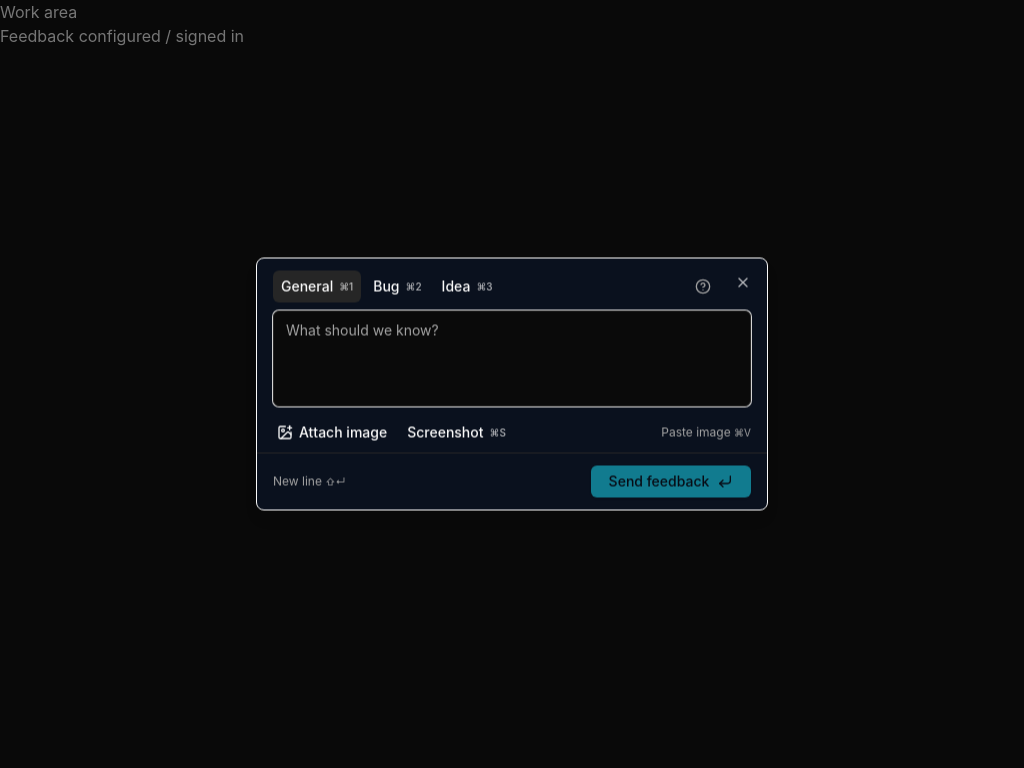
Test: unified feedback composer continuity › capture returns the draft with a selection where it was (BUG-284)
In the text box named "Feedback": (512, 358) [273,310,751,406], type "Typing in the middle"
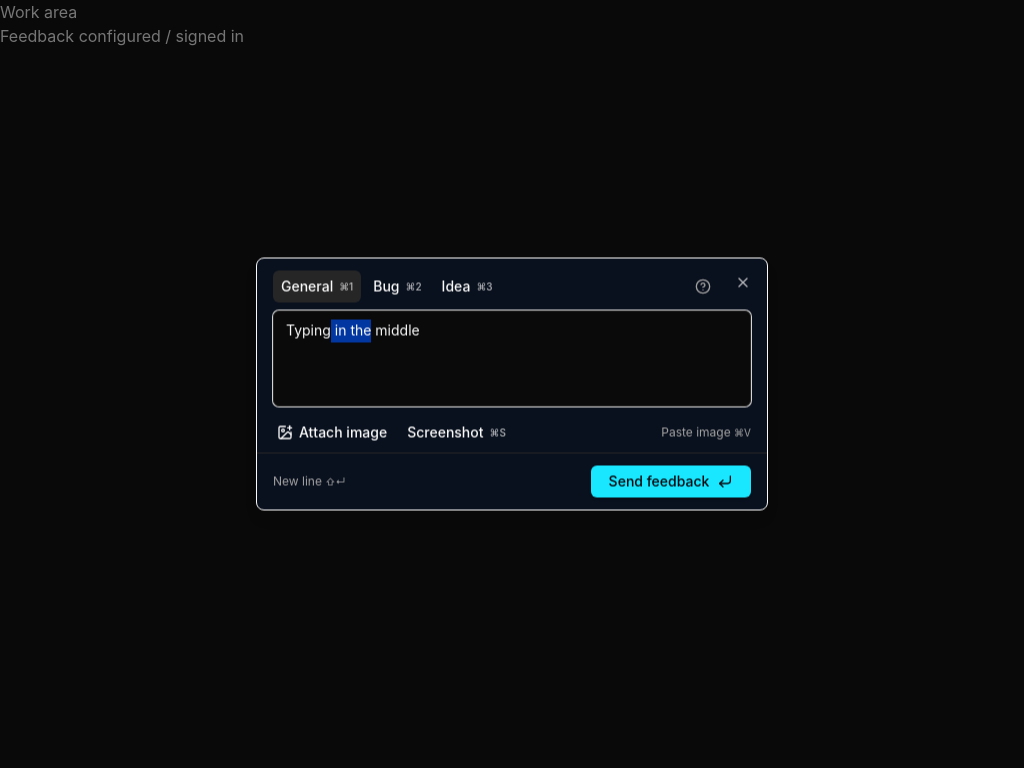
Press s in the text box named "Feedback", box [273,310,751,406]
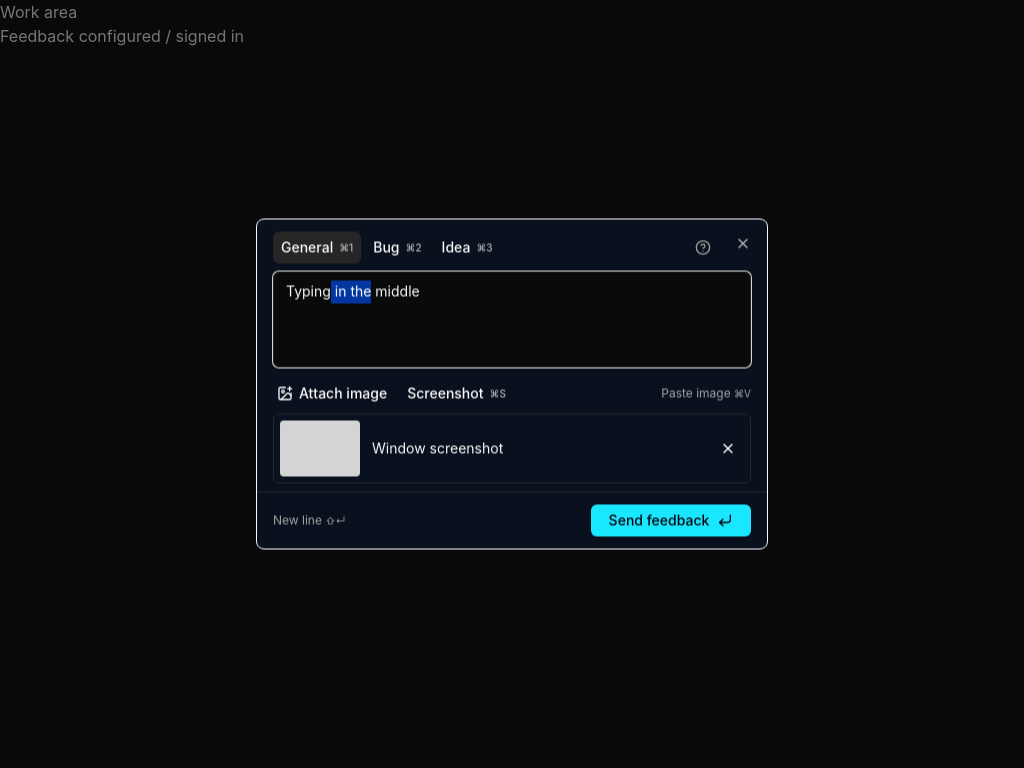
Result: the text box named "Feedback" holds "Typing in the middle" at [273,272,751,368]
